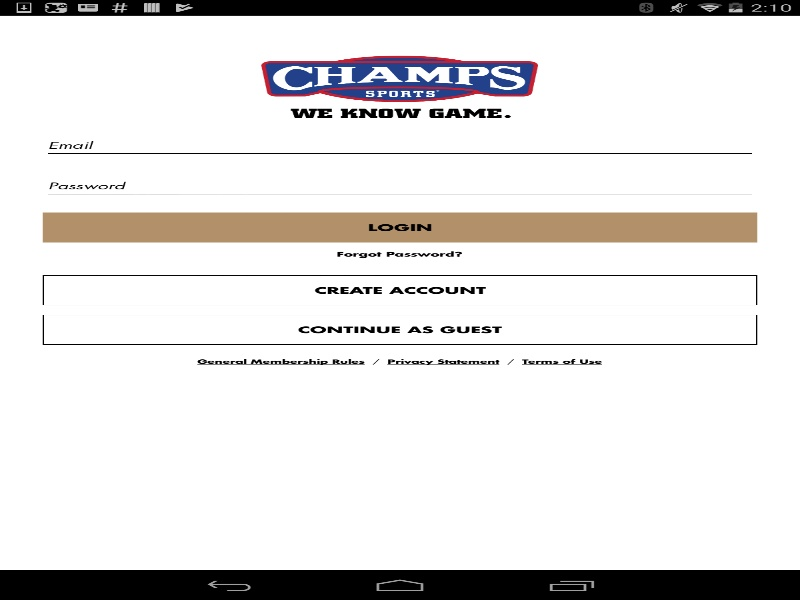Button: (42, 212, 757, 242), (42, 275, 757, 305), (42, 314, 757, 344)
Input: (42, 134, 757, 158), (42, 175, 757, 199)
